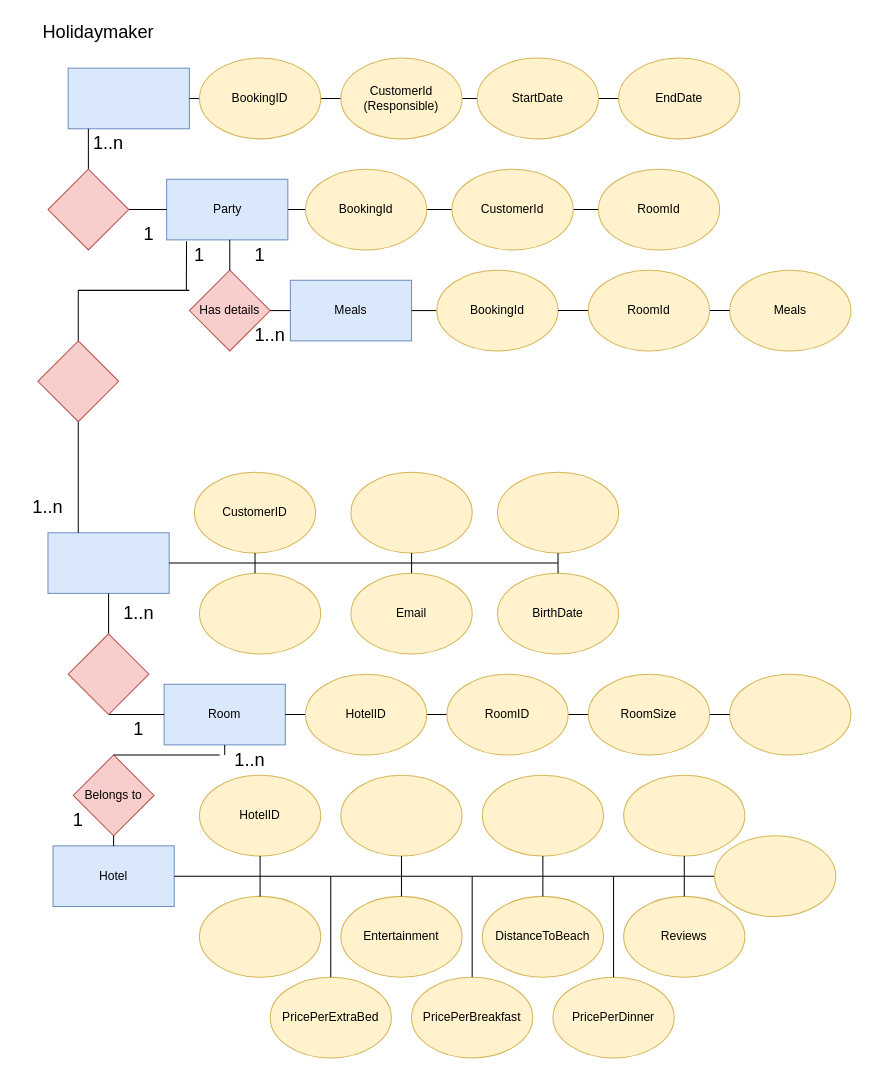
Some shapes in this 869 by 1076 pixel diagram are drawn without their labels. Each missing label, with the centre of its shape:
Booking: point (128, 98)
Customer: point (108, 562)
DistanceToCentrum: point (684, 815)
FirstName: point (411, 512)
HotelName: point (775, 876)
Is made per: point (88, 209)
KidsClub: point (259, 936)
LastName: point (557, 512)
Party consists of: point (78, 381)
PhoneNR: point (259, 613)
Pool: point (401, 815)
Restaurants: point (542, 815)
RoomPrice: point (790, 714)
Stays in according to Placement: point (108, 674)
